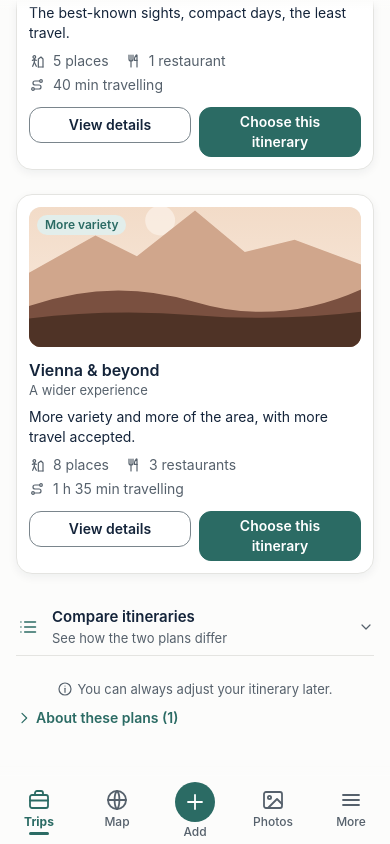
the plan notes are one tap away, including that opening hours are not checked
The image size is (390, 844).
(page scrolled)
Expected: the text "Opening hours are not checked" is not shown
Click the button with aria-label "About these plans, 1 notes".
click(102, 718)  # box [16,698,374,738]
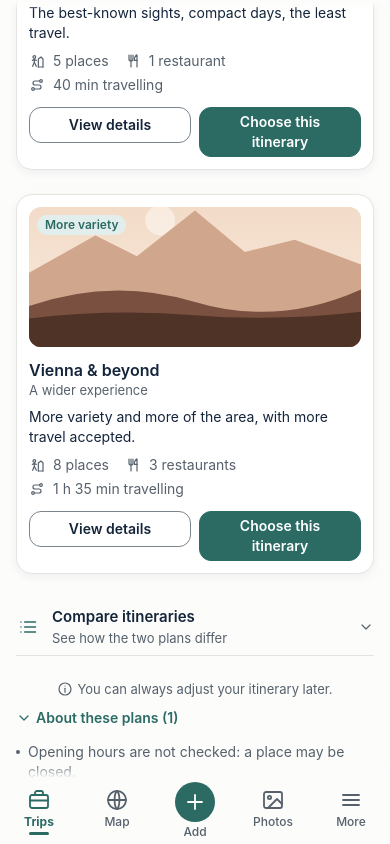
Expected: the text "Opening hours are not checked: a place may be closed." is shown, [28,742,374,778]
